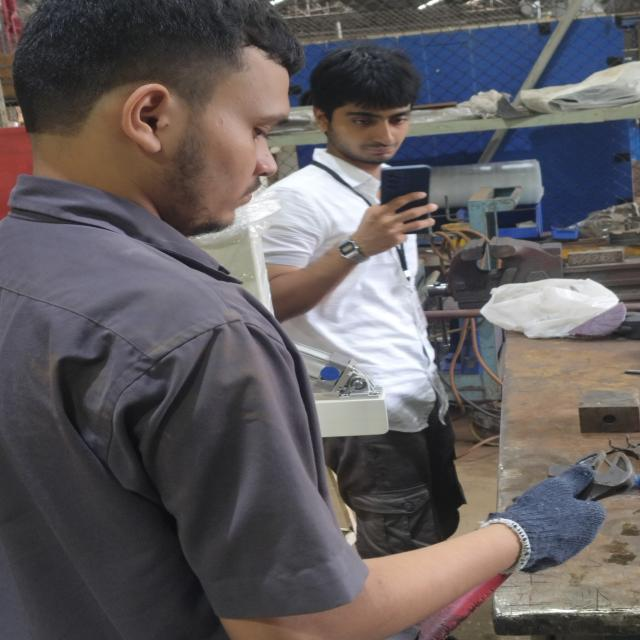Gloves-Detection: (485, 464, 603, 585)
